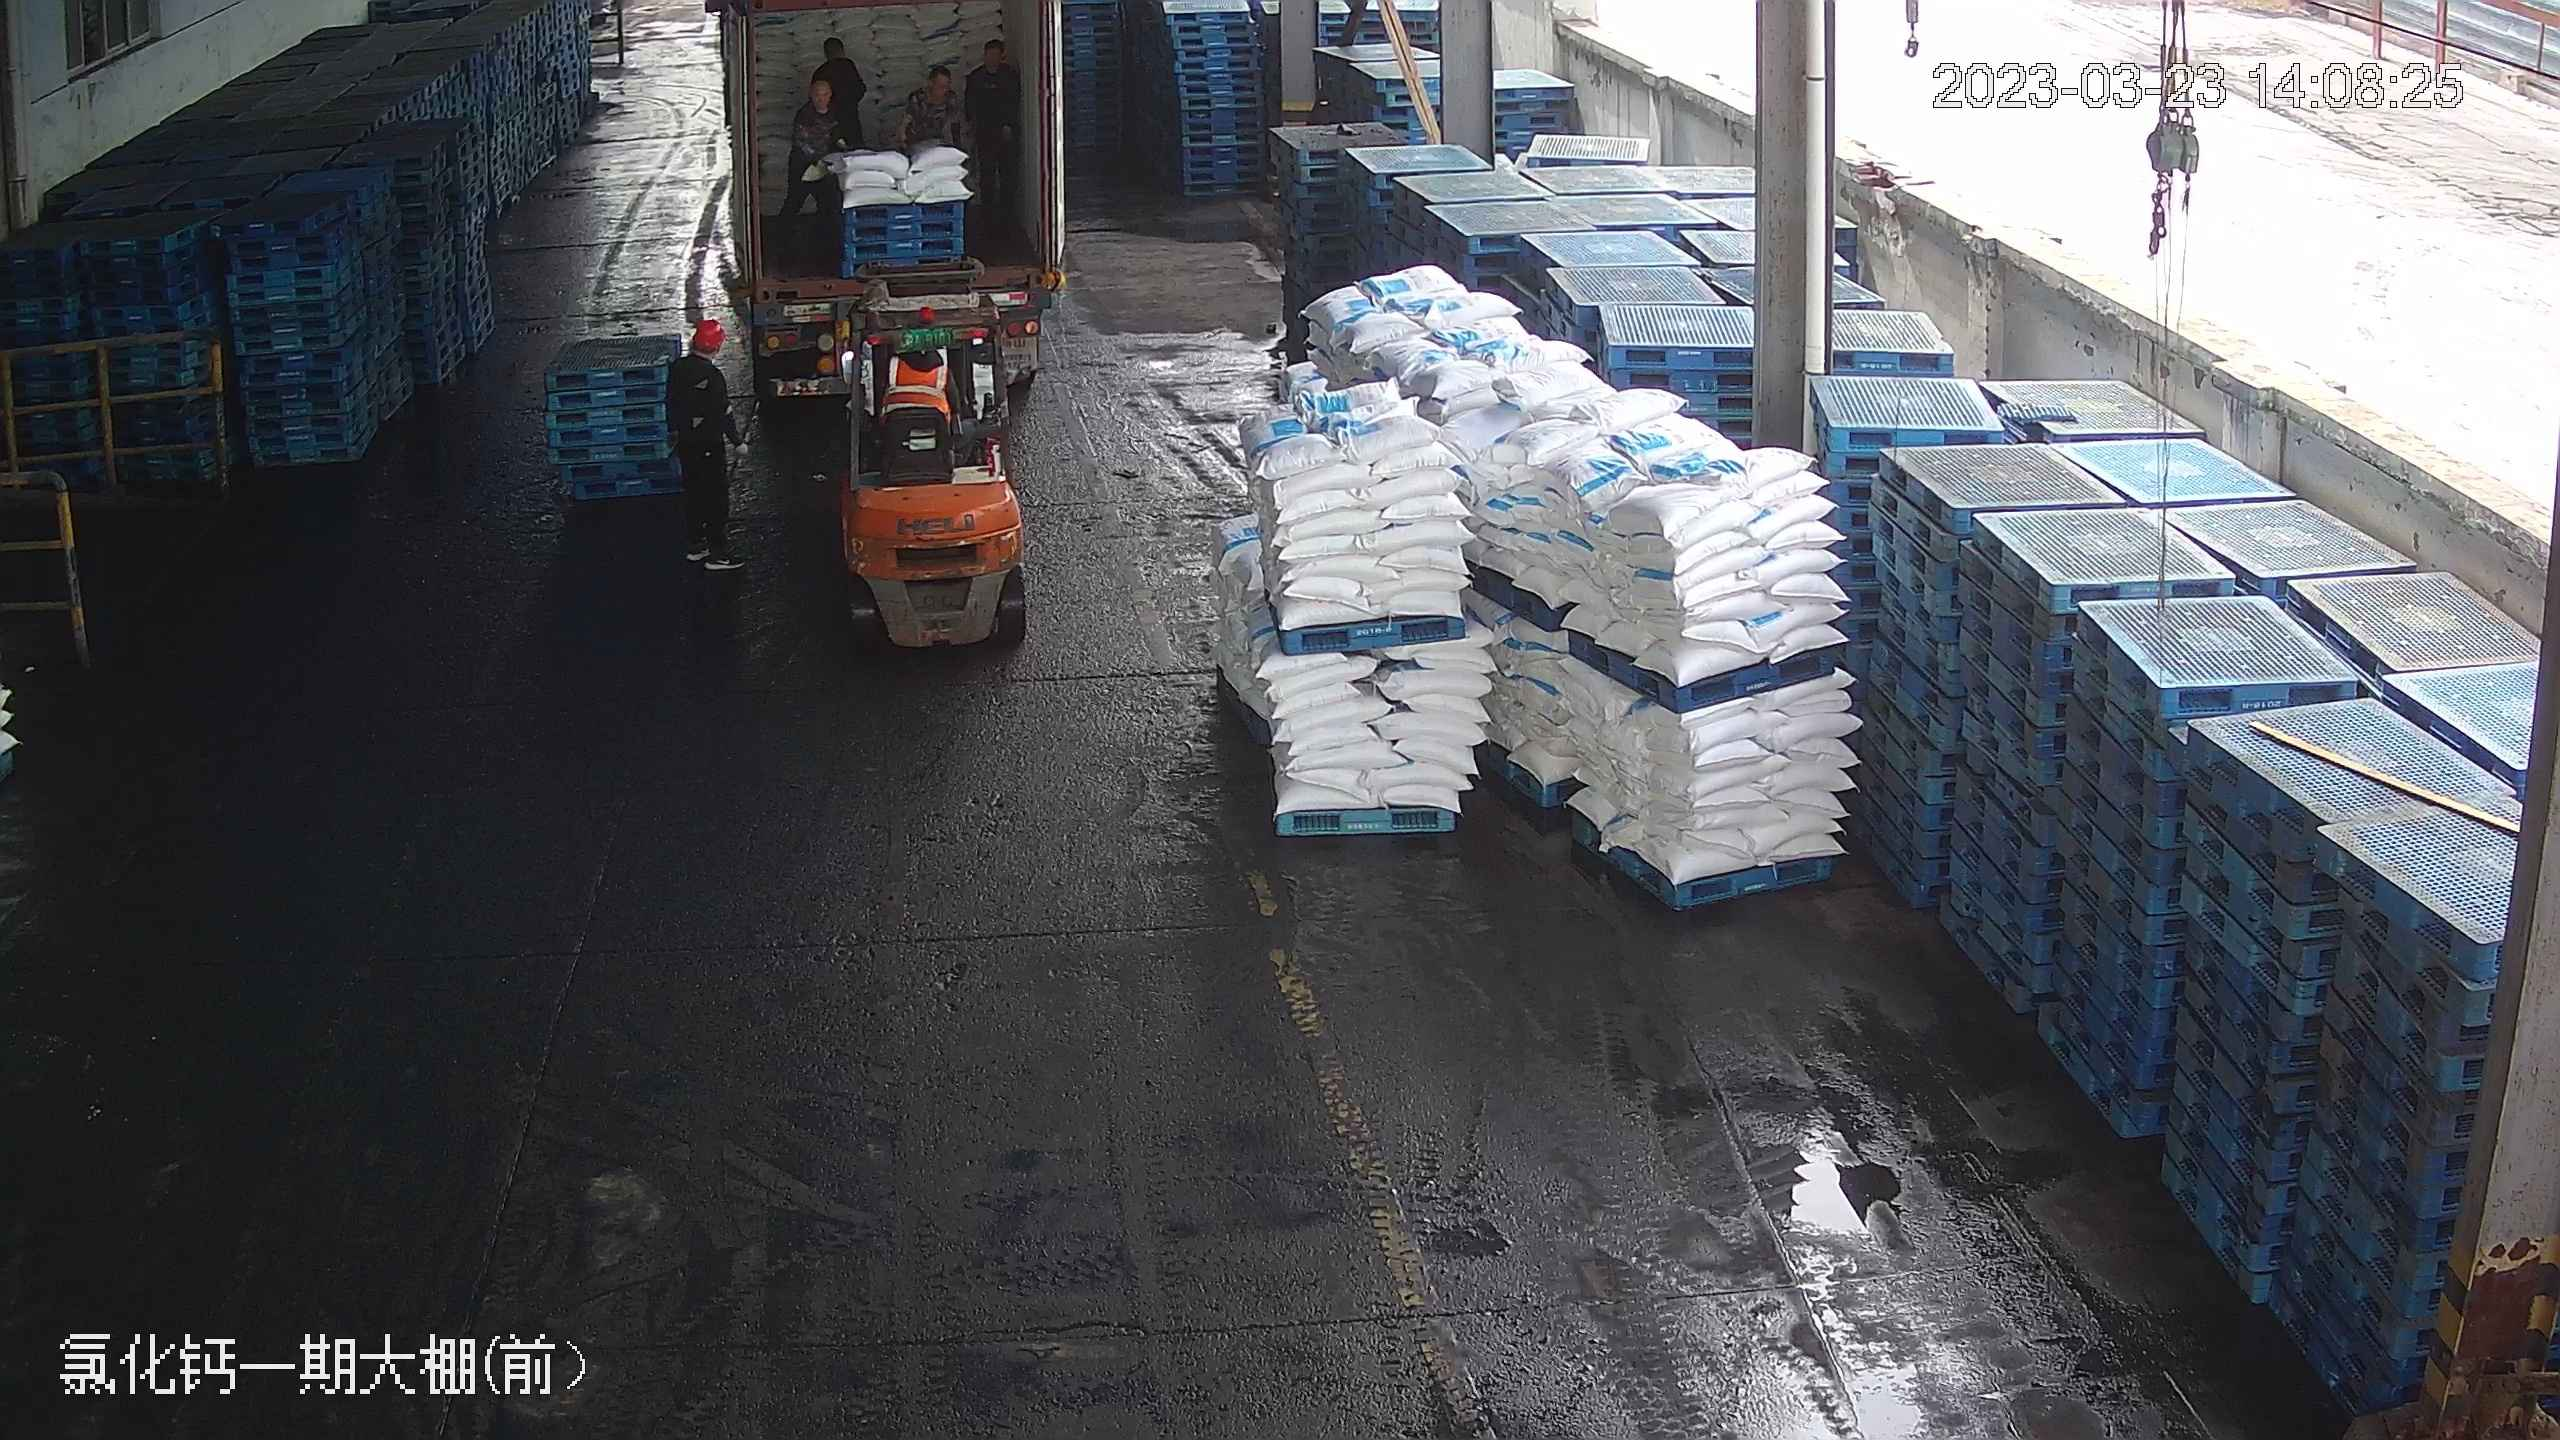head: (670, 311, 734, 392), (966, 29, 1020, 90), (815, 29, 862, 83), (903, 64, 957, 109), (794, 79, 838, 127)
helmet: (690, 313, 725, 342)
people: (666, 310, 743, 571), (963, 29, 1024, 216), (800, 33, 865, 160)
truck: (694, 13, 1063, 408)
